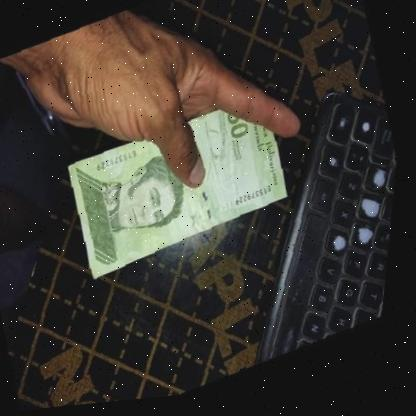fifty-front-vef: (59, 88, 305, 287)
